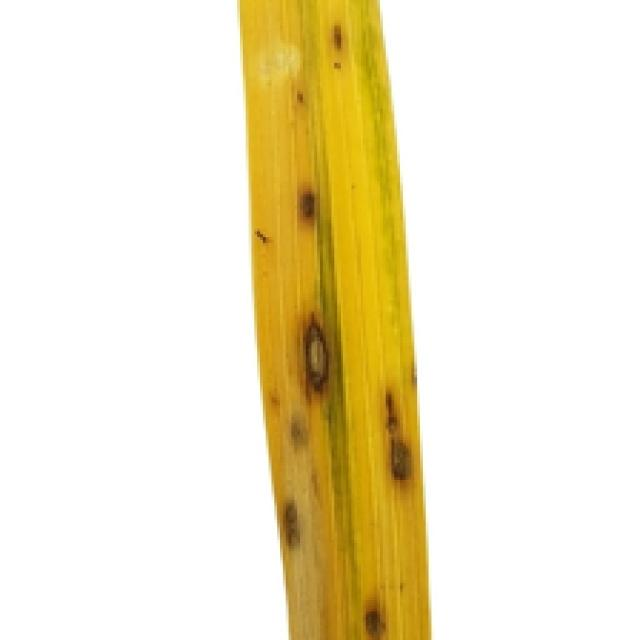Rice___Rice_Blast: (238, 0, 435, 637)
